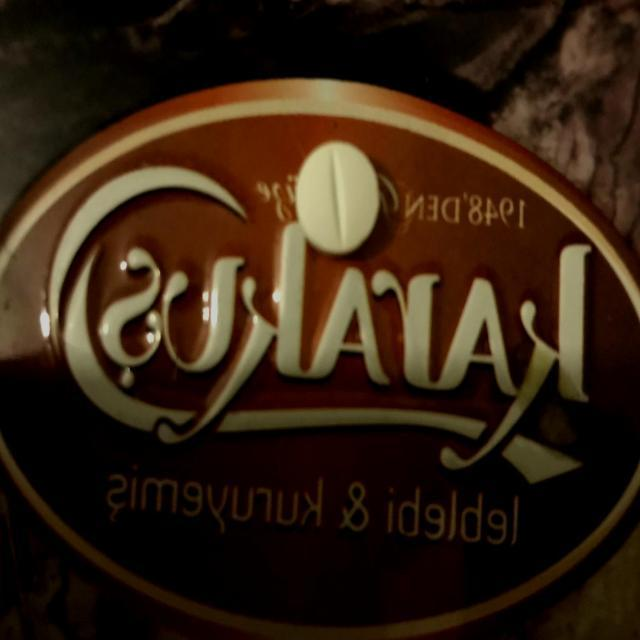pill: (294, 138, 381, 254)
